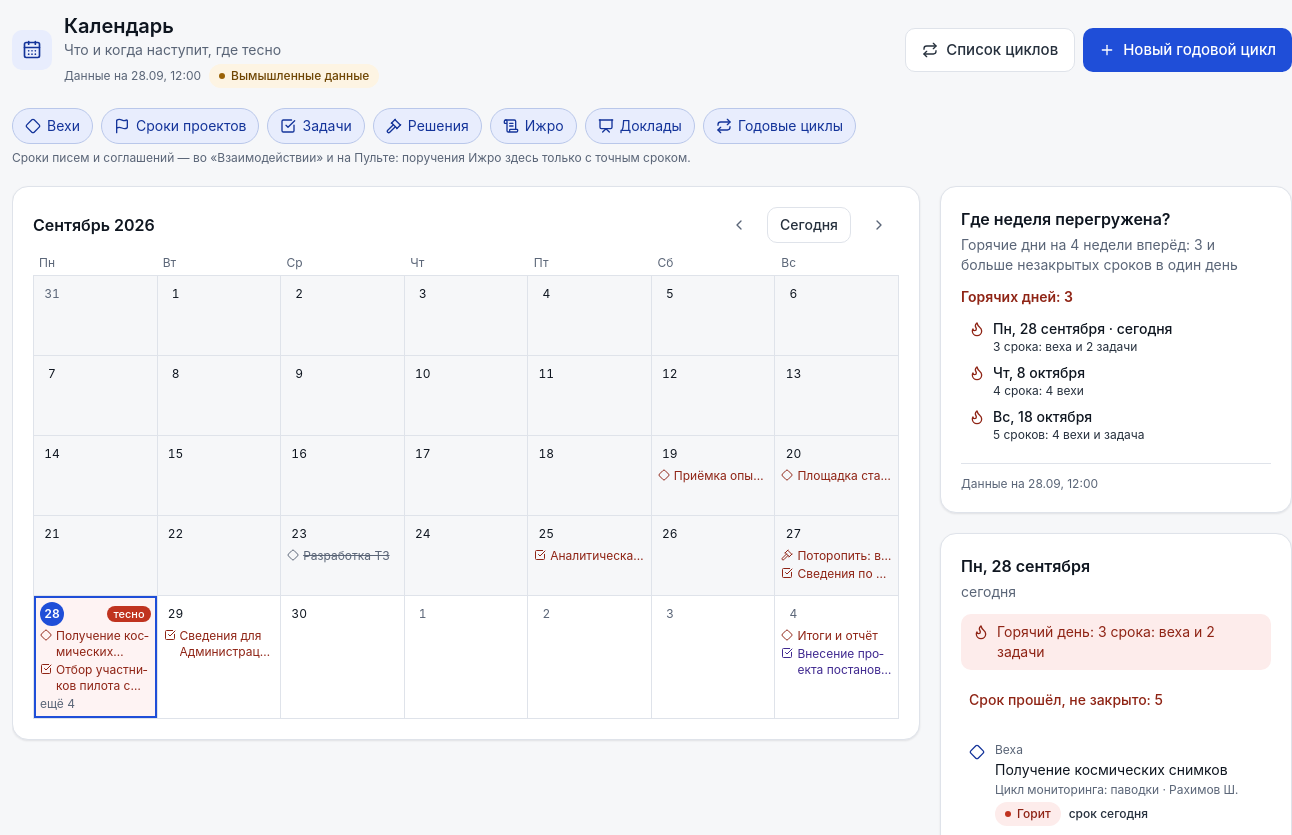
it: Календарь › месяцы листаются с выбранным днём, «сегодня» возвращает
Expected: the element "Сентябрь 2026" is shown, [12,186,920,740]
What coordinates should you click on to do the following:
click the button named "Следующий месяц"
I would click on:
 (879, 225)
Its box is [859,207,899,243].
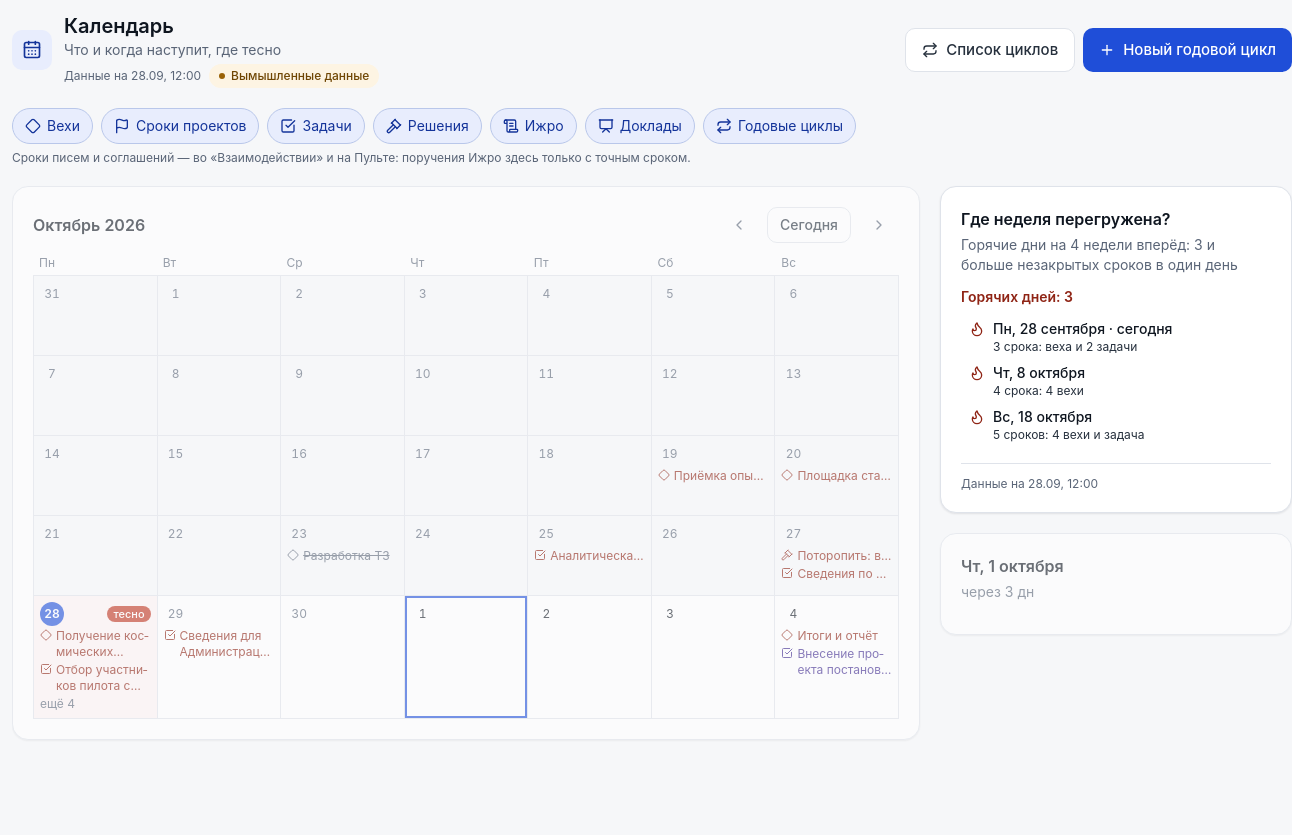
What coordinates should you click on to do the following:
click the button named "Следующий месяц"
I would click on:
 (879, 225)
Its box is [859,207,899,243].
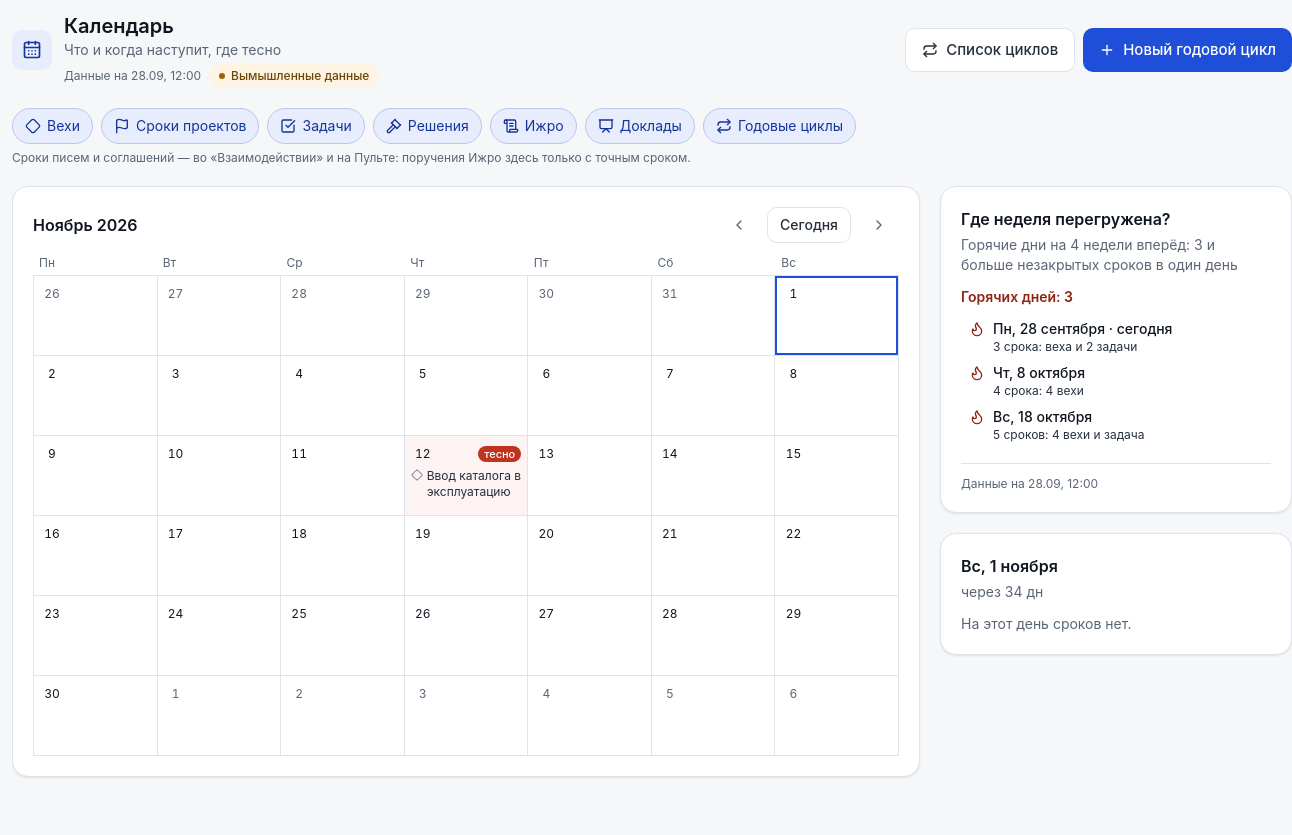
Expected: the text "Горячих дней: 3" is shown, [961,288,1073,305]
Expected: the element "Ноябрь 2026" is shown, [12,186,920,777]
Expected: the heading "Вс, 1 ноября" is shown, [961,554,1058,578]
What coordinates should you click on to do the following:
click the button "Сегодня"
I would click on:
 (809, 225)
Its box is [767,207,851,243].
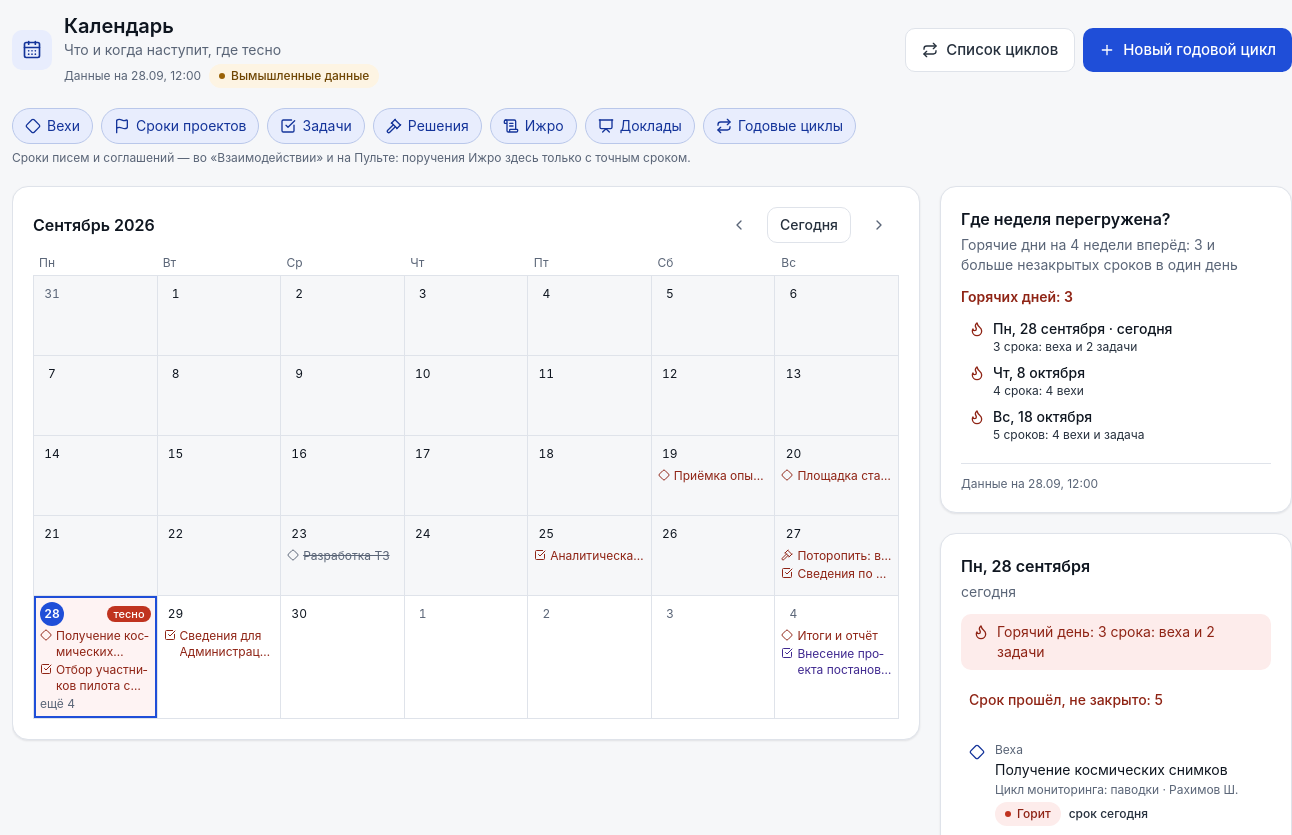
Expected: the element "Сентябрь 2026" is shown, [12,186,920,740]
Expected: the heading "Пн, 28 сентября" is shown, [961,554,1090,578]
